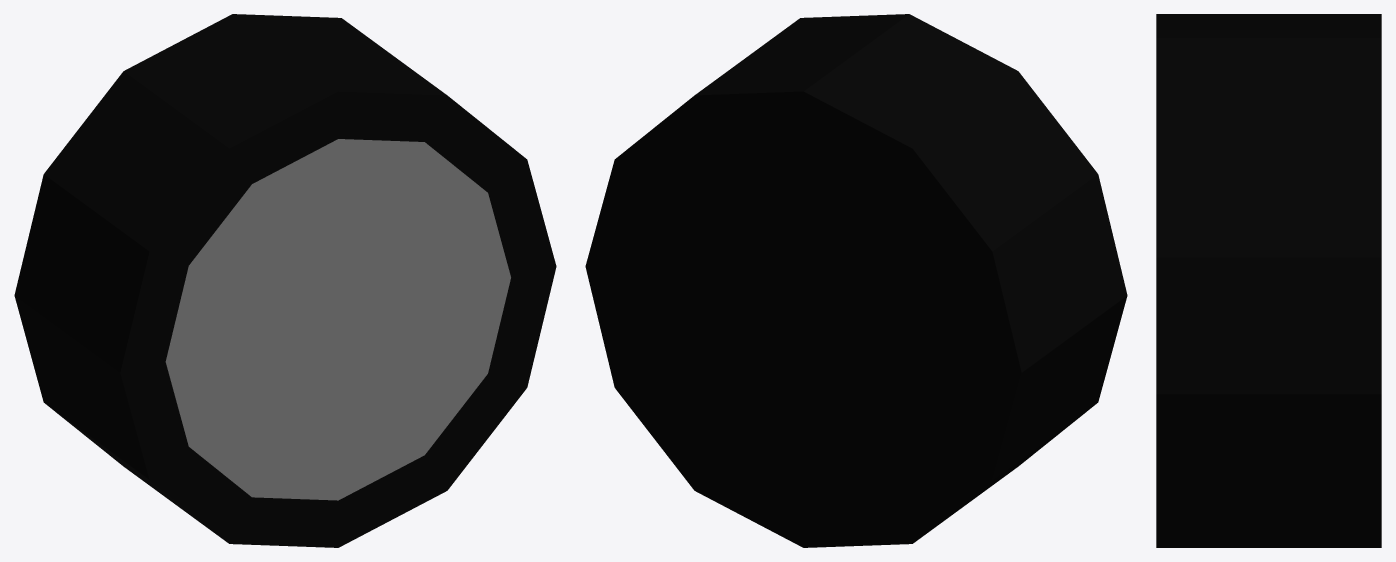
The model's file is SM_tire.fbx.
3 views of the same model, side by side, from view 1: azimuth 30°, elevation 25°; view 2: azimuth 150°, elevation 25°; view 3: azimuth 270°, elevation 25° (orthographic). The views are drawn at different scales.
Visible parts, largest first — view 1: Tire; view 2: Tire; view 3: Tire.
Part boxes in pixels (bbox=[...]): Tire: bbox=[14, 14, 556, 547]; Tire: bbox=[585, 14, 1127, 547]; Tire: bbox=[1156, 14, 1381, 547].
Bounding box in the file's own units: 0.5885 × 0.5885 × 0.2473.
